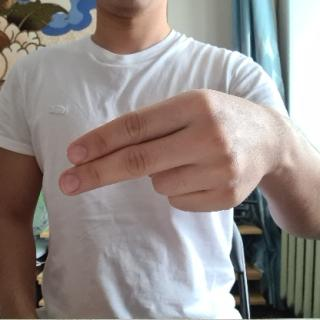AYN: (53, 82, 285, 220)
